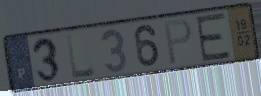3: (31, 34, 66, 86), (99, 27, 129, 75)
6: (133, 23, 163, 69)
E: (194, 11, 233, 64)
L: (64, 31, 98, 81)
P: (163, 17, 194, 67)
